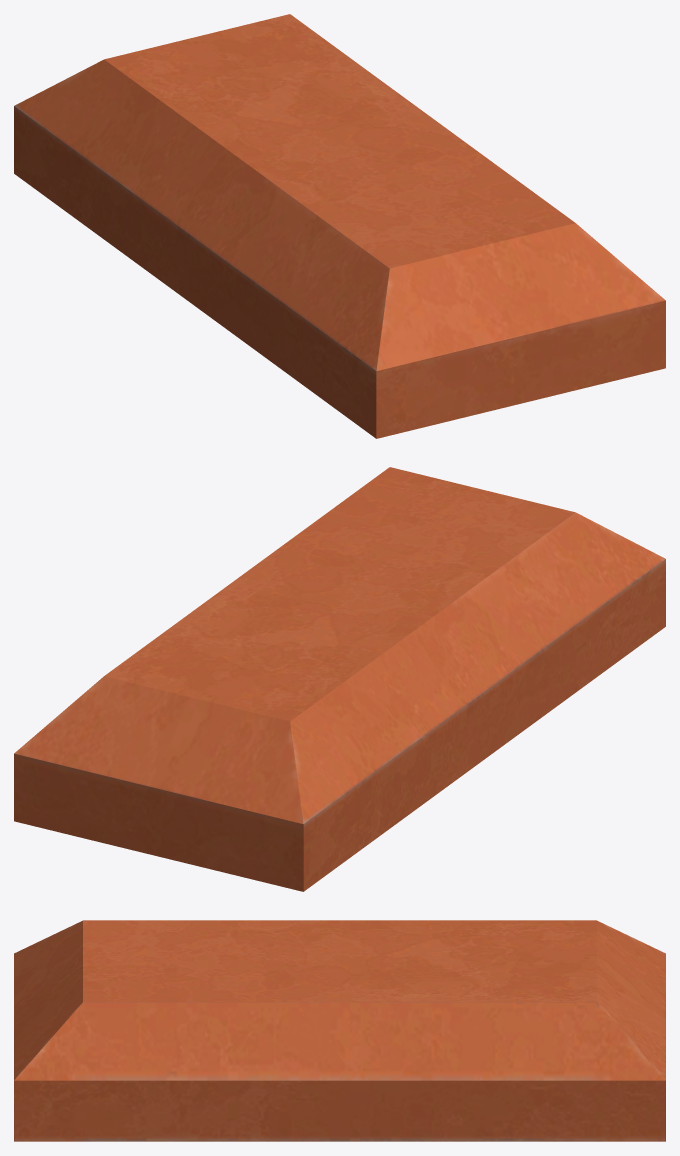
Rendered from CopperIngot_Polished.glb.
The picture shows the model from 3 angles, top to bottom: view 1: azimuth 30°, elevation 25°; view 2: azimuth 150°, elevation 25°; view 3: azimuth 270°, elevation 25°; orthographic projection. The views are drawn at different scales.
Parts seen in each view (by area): view 1: CopperIngot_Polished; view 2: CopperIngot_Polished; view 3: CopperIngot_Polished.
Part boxes in pixels (x1,y1,x2,y2): CopperIngot_Polished: (14, 14, 665, 438); CopperIngot_Polished: (14, 467, 665, 891); CopperIngot_Polished: (14, 920, 665, 1141).
Bounding box in the file's own units: 0.2206 × 0.0945 × 0.4784.
1 material, 1 textured.
